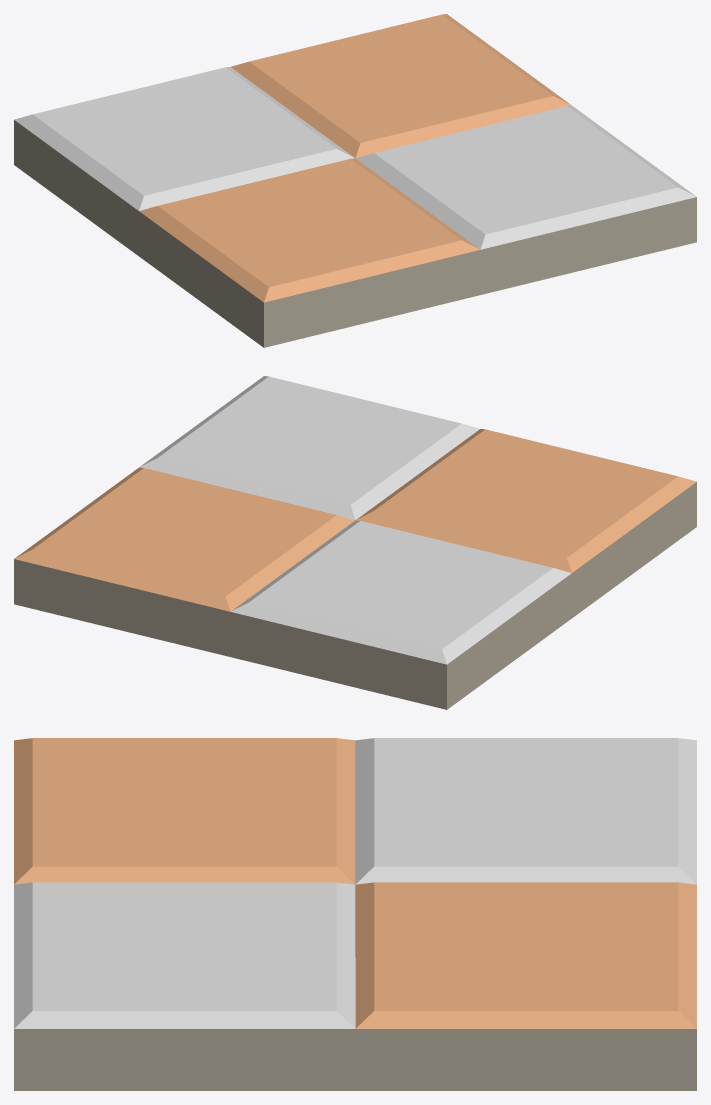
Rendered from Mesh_GroundCeramic_F1.fbx.
3 renders of one model, top to bottom at view 1: azimuth 30°, elevation 25°; view 2: azimuth 150°, elevation 25°; view 3: azimuth 270°, elevation 25°, orthographic. The views are drawn at different scales.
Parts seen in each view (by area): view 1: Mesh_GroundCeramic_F1; view 2: Mesh_GroundCeramic_F1; view 3: Mesh_GroundCeramic_F1.
Boxes of the visible parts, left/top/right/bottom form: Mesh_GroundCeramic_F1: left=14, top=14, right=696, bottom=347; Mesh_GroundCeramic_F1: left=14, top=376, right=696, bottom=709; Mesh_GroundCeramic_F1: left=14, top=738, right=696, bottom=1090.
Bounding box in the file's own units: 1 × 0.1164 × 1.
